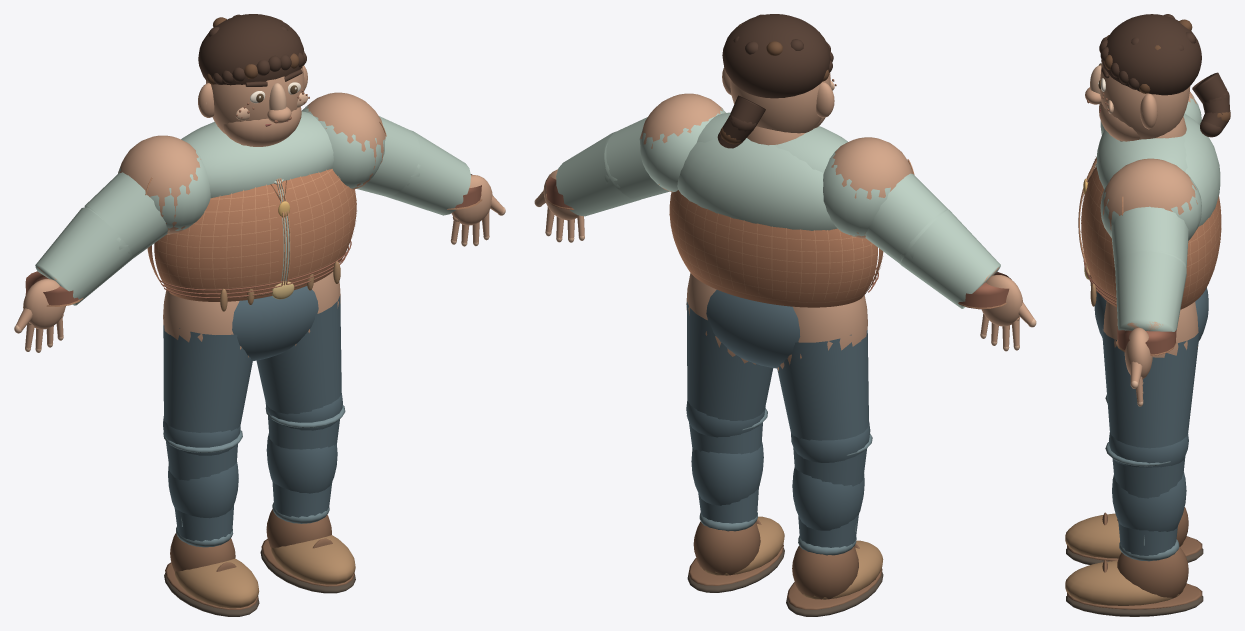
3 views of the same model, side by side, from view 1: azimuth 30°, elevation 25°; view 2: azimuth 150°, elevation 25°; view 3: azimuth 270°, elevation 25° (orthographic). The views are drawn at different scales.
Visible parts, largest first — view 1: Trouser, Shirt, Skin, Knit, Leather Light, Hair, Leather, Knit Light, Knit Dark, Trouser Light, Sole, Skin Light; view 2: Trouser, Shirt, Skin, Knit, Hair, Leather, Knit Light, Leather Light, Sole, Knit Dark, Trouser Light; view 3: Trouser, Shirt, Skin, Hair, Knit, Leather Light, Leather, Knit Light, Sole, Knit Dark, Trouser Light, Skin Light (+1 smaller).
Part boxes in pixels (x1,y1,x2,y2): Trouser: (163,286,342,541); Shirt: (35,106,470,305); Skin: (16,65,503,357); Knit: (147,169,356,301); Leather Light: (175,261,355,608); Hair: (198,14,306,86); Leather: (165,180,354,609); Knit Light: (25,121,482,306); Knit Dark: (25,174,481,305); Trouser Light: (163,280,345,547); Sole: (164,549,355,616); Skin Light: (14,77,505,352); Trouser: (686,290,870,547); Shirt: (556,108,1000,308); Skin: (535,67,1033,370); Knit: (669,190,883,307); Hair: (717,14,833,148); Leather: (688,519,882,609); Knit Light: (546,159,1006,308); Leather Light: (701,516,883,599); Sole: (687,548,883,616); Knit Dark: (546,177,1011,309); Trouser Light: (686,408,872,555); Trouser: (1094,287,1208,555); Shirt: (1096,95,1220,331); Skin: (1085,62,1198,402); Hair: (1099,14,1230,137); Knit: (1081,157,1221,309); Leather Light: (1065,277,1183,605); Leather: (1067,167,1202,609); Knit Light: (1078,156,1221,355); Sole: (1066,548,1203,616); Knit Dark: (1083,259,1176,355); Trouser Light: (1105,394,1179,561); Skin Light: (1090,65,1143,406).
Size of the model in its own units: 1.65 by 1.8 by 0.4793.
